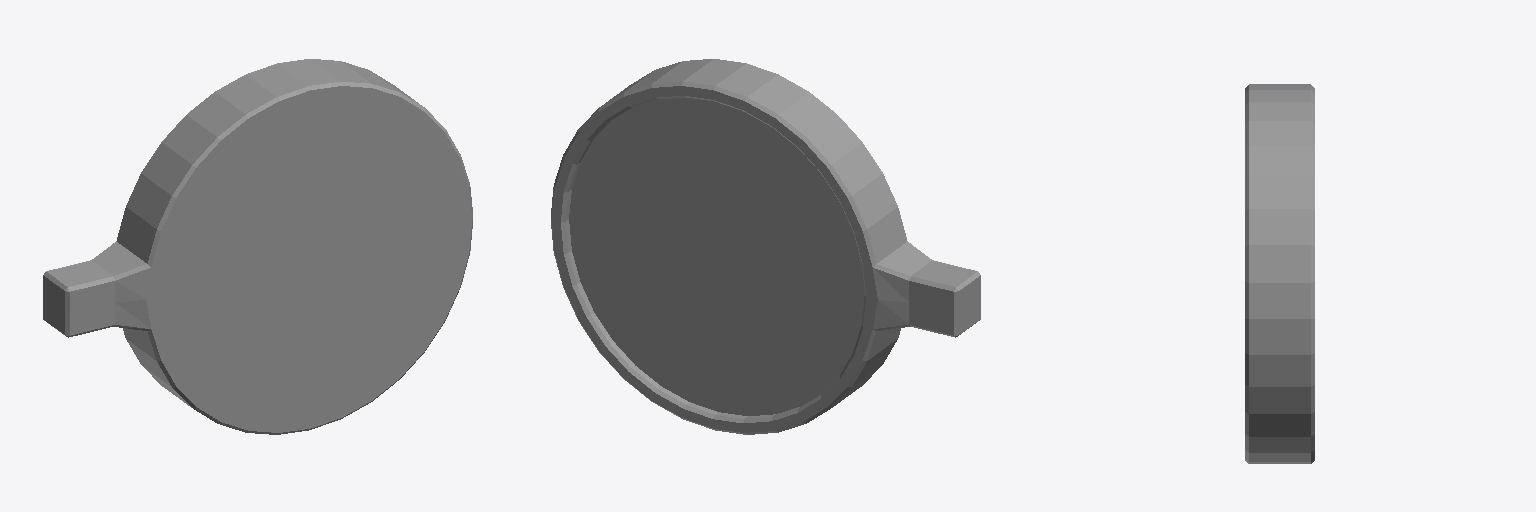
The model's file is HDialIndicator.obj.
The picture shows the model from 3 angles: view 1: azimuth 30°, elevation 25°; view 2: azimuth 150°, elevation 25°; view 3: azimuth 270°, elevation 25°; orthographic projection.
Parts seen in each view (by area): view 1: Plane; view 2: Circle, Plane; view 3: Plane.
Part boxes in pixels (left/top/right/bottom): Plane: left=43, top=59, right=472, bottom=434; Circle: left=569, top=98, right=864, bottom=415; Plane: left=551, top=59, right=980, bottom=434; Plane: left=1245, top=84, right=1314, bottom=463.
Bounding box in the file's own units: 0.0675 × 0.055 × 0.01.